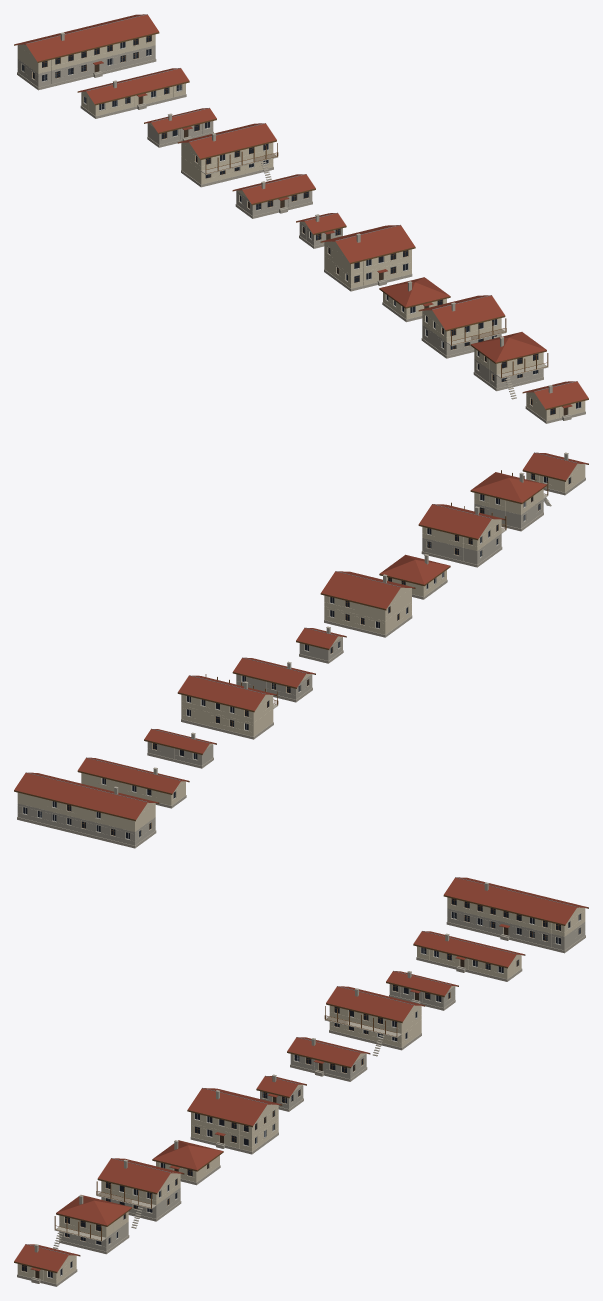
File: houses.glb
3 views of the same model, one above another, from view 1: azimuth 30°, elevation 25°; view 2: azimuth 150°, elevation 25°; view 3: azimuth 330°, elevation 25° (orthographic).
Parts seen in each view (by area): view 1: house_k, house_e, house_h, house_c, house_b, house_j, house_g, house_a, house_d, house_i, house_f; view 2: house_k, house_e, house_h, house_c, house_b, house_j, house_g, house_i, house_a, house_d, house_f; view 3: house_k, house_e, house_h, house_c, house_b, house_j, house_g, house_a, house_d, house_i, house_f.
Part boxes in pixels (box(x1,y1,x2,y2)): house_k: box(14, 14, 159, 90); house_e: box(320, 224, 415, 291); house_h: box(177, 123, 278, 187); house_c: box(418, 295, 506, 358); house_b: box(470, 332, 548, 399); house_j: box(77, 68, 189, 118); house_g: box(232, 174, 315, 218); house_a: box(522, 381, 588, 423); house_d: box(379, 277, 450, 322); house_i: box(144, 107, 216, 147); house_f: box(296, 212, 346, 248); house_k: box(14, 772, 159, 848); house_e: box(320, 571, 415, 637); house_h: box(177, 674, 278, 739); house_c: box(418, 502, 506, 567); house_b: box(470, 470, 551, 531); house_j: box(77, 757, 189, 808); house_g: box(232, 657, 315, 702); house_i: box(144, 728, 216, 768); house_a: box(522, 452, 588, 495); house_d: box(379, 554, 450, 599); house_f: box(296, 626, 346, 663); house_k: box(443, 877, 588, 953); house_e: box(187, 1087, 282, 1154); house_h: box(324, 986, 425, 1056); house_c: box(96, 1158, 184, 1228); house_b: box(53, 1195, 132, 1254); house_j: box(413, 931, 525, 981); house_g: box(287, 1037, 370, 1081); house_a: box(14, 1244, 80, 1286); house_d: box(152, 1140, 223, 1185); house_i: box(386, 970, 458, 1010); house_f: box(256, 1074, 306, 1111).
Size of the model in its own units: 27 by 9.8 by 189.
